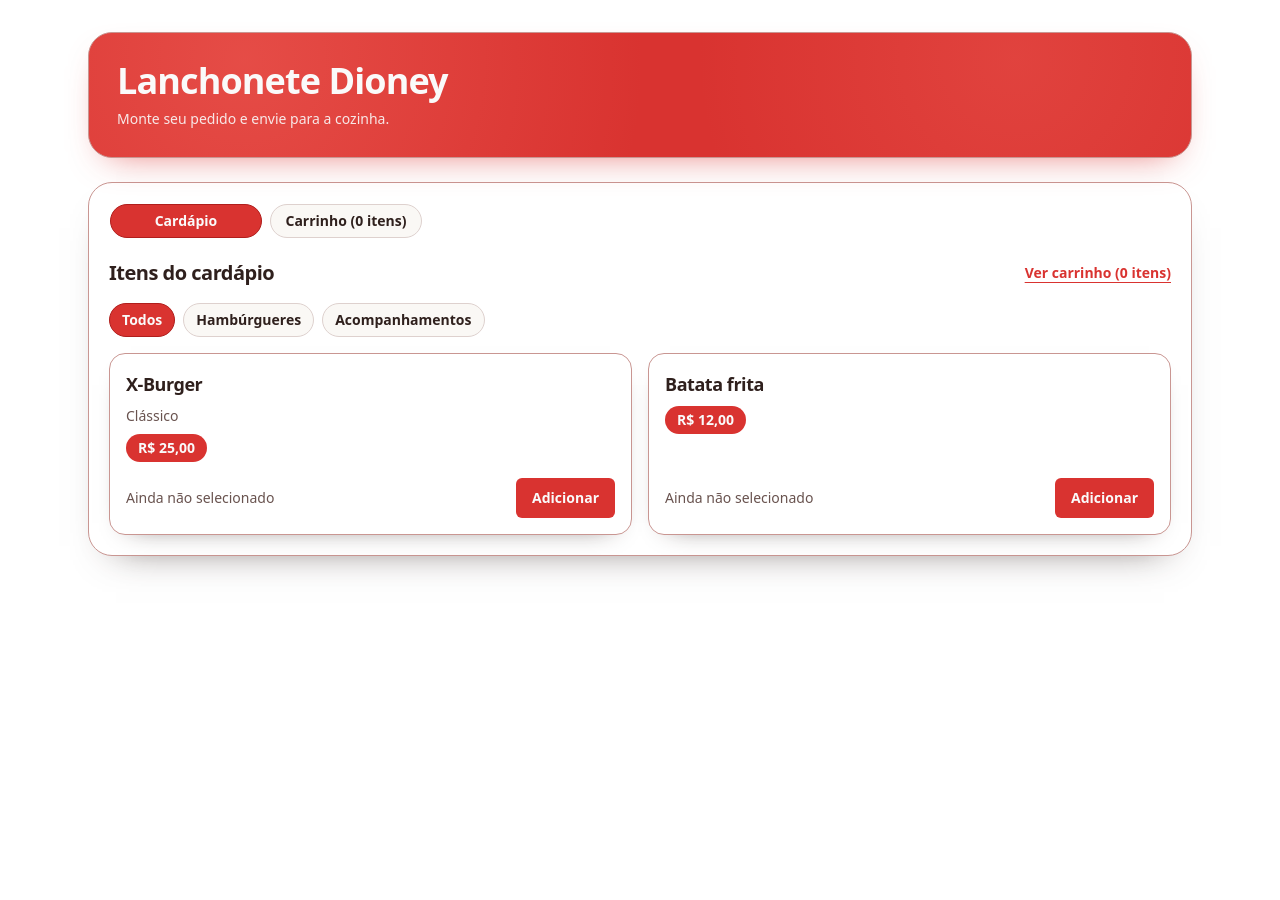
Test: CustomerOrderPage (Customer Order Submission) › renders total estimate with the same branded price chip style as menu prices (brief: total highlight style)
Click the 1st button "Adicionar" at (566, 498), box [516,478,615,518]
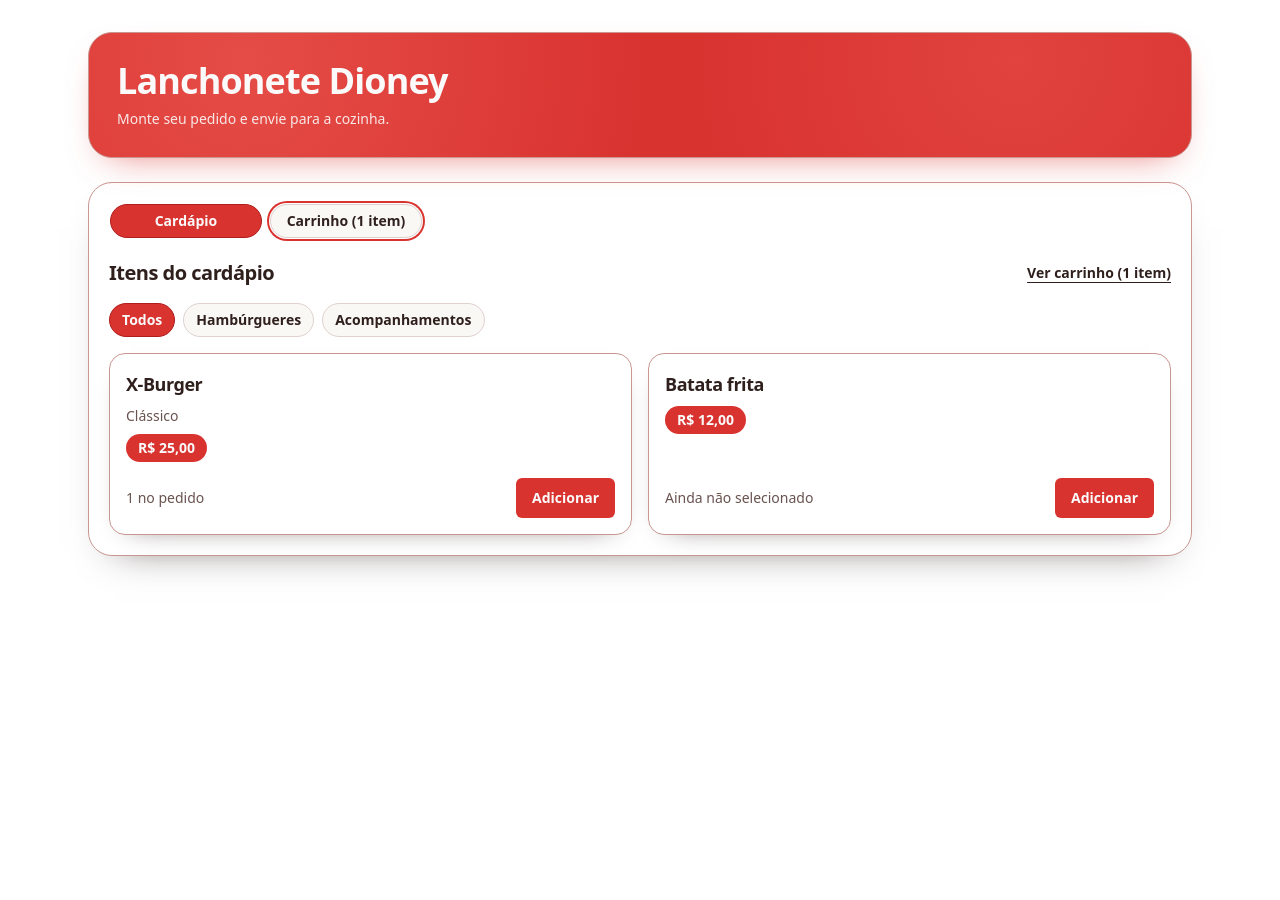
Click the button "Ver carrinho (1 item)" at (1099, 273), box [1027,263,1171,283]
(page scrolled)
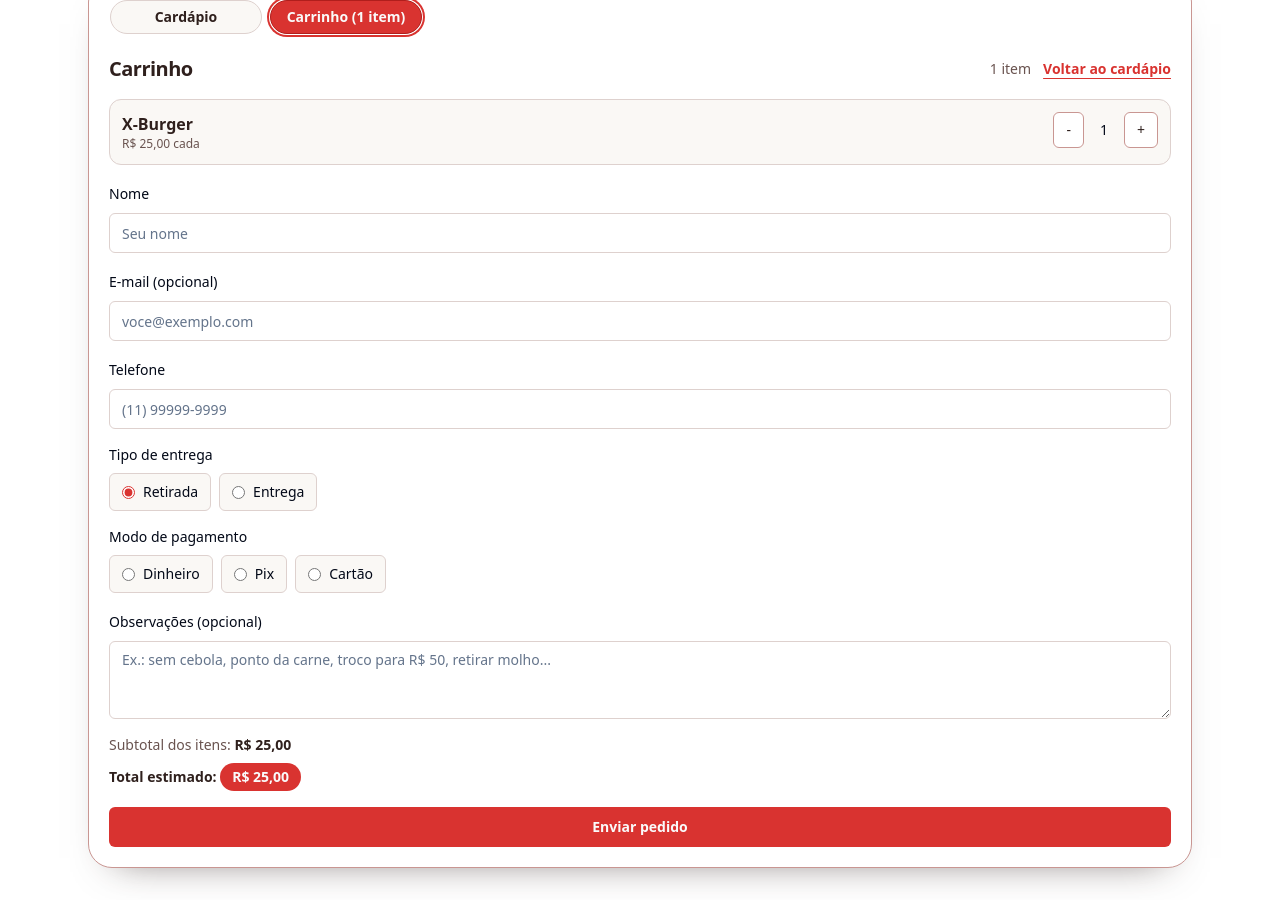
Now the text "Total estimado: R$ 25,00" is shown, box [109,763,301,791]
